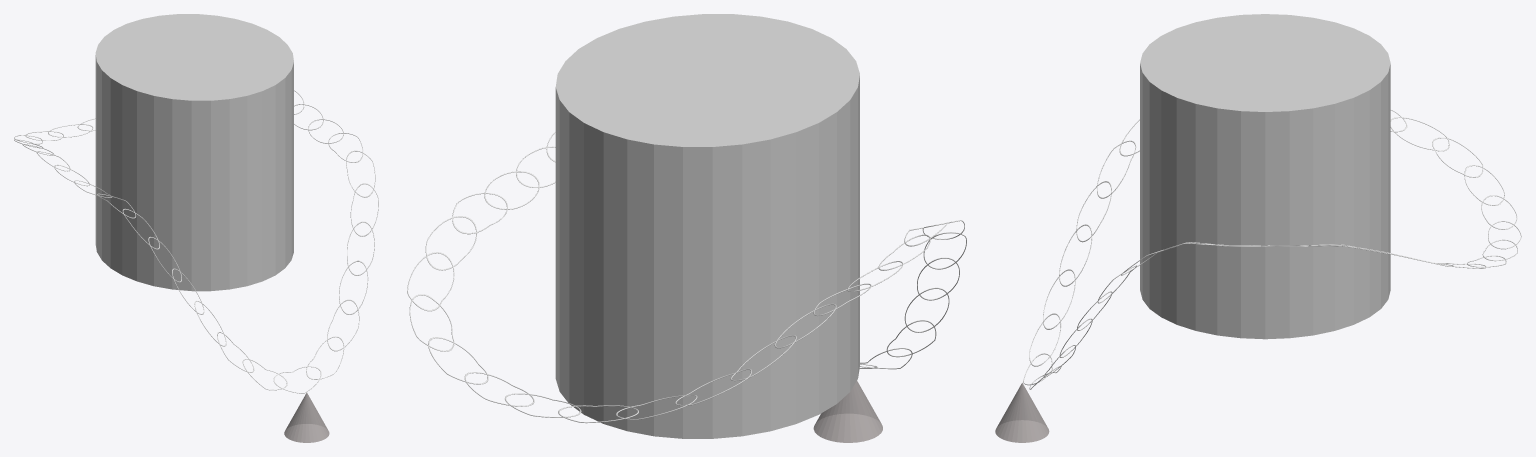
The model's file is necklace_2.draco.glb.
3 views of the same model, side by side, from view 1: azimuth 30°, elevation 25°; view 2: azimuth 150°, elevation 25°; view 3: azimuth 270°, elevation 25° (orthographic). The views are drawn at different scales.
Parts seen in each view (by area): view 1: neck_helper, 環體, 圓錐體; view 2: neck_helper, 環體, 圓錐體; view 3: neck_helper, 環體, 圓錐體.
Boxes of the visible parts, box(x1,y1,x2,y2) form: neck_helper: box(95, 14, 293, 291); 環體: box(14, 90, 378, 393); 圓錐體: box(284, 392, 329, 442); neck_helper: box(555, 14, 859, 438); 環體: box(407, 132, 966, 423); 圓錐體: box(813, 381, 882, 442); neck_helper: box(1140, 14, 1390, 339); 環體: box(1023, 110, 1521, 389); 圓錐體: box(995, 383, 1049, 442).
Bounding box in the file's own units: 2.27 × 2.55 × 3.35.
Materials: 3 (1 with a texture image).
